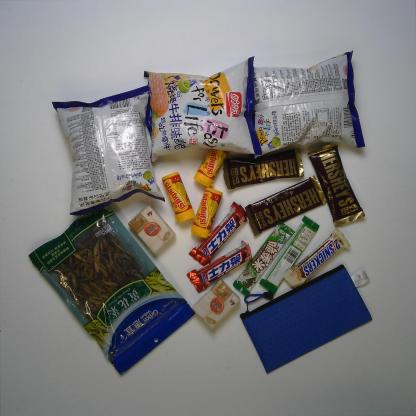Candy: (193, 138, 229, 187), (165, 171, 194, 223), (191, 191, 221, 239)
Chocolate: (310, 137, 366, 225), (245, 178, 326, 236), (285, 230, 355, 296), (234, 224, 295, 297), (262, 216, 317, 294), (191, 200, 247, 265), (223, 146, 304, 189), (185, 242, 252, 290)
Dried Food: (30, 206, 195, 376)
Puffed Food: (47, 80, 156, 210), (140, 53, 264, 165), (251, 47, 368, 161)
Stationery: (240, 266, 380, 369)
Tissue: (128, 202, 176, 256), (190, 283, 238, 330)
